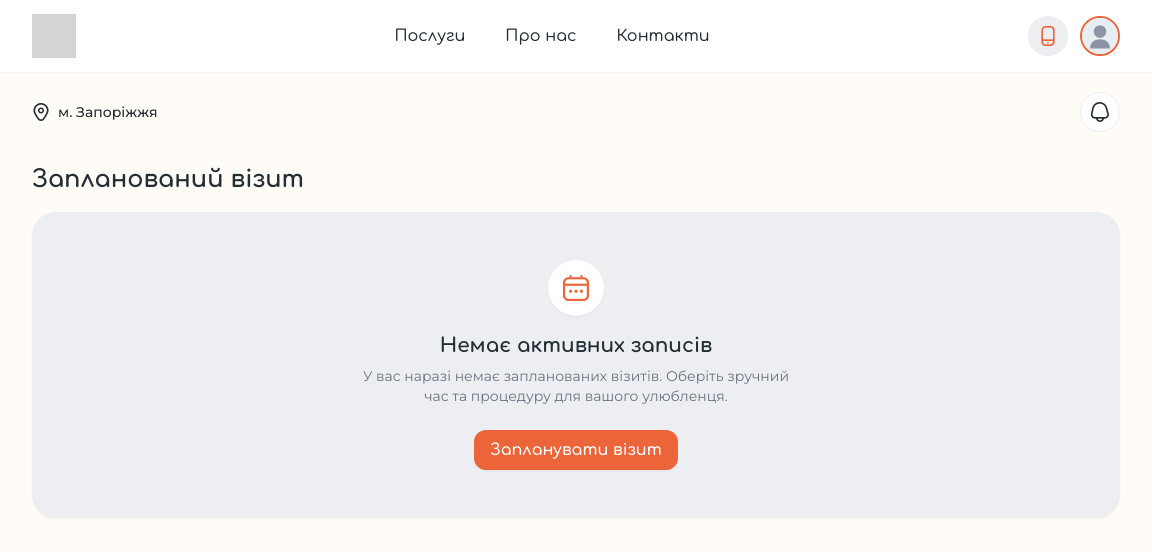
Test: App Root and Auth Gating › Unauthenticated Route Gating & Redirects › navigates from main page to /booking when clicking book visit button in VisitSection
Click the button "Запланувати візит": (576, 450) x1=474 y1=430 x2=678 y2=470
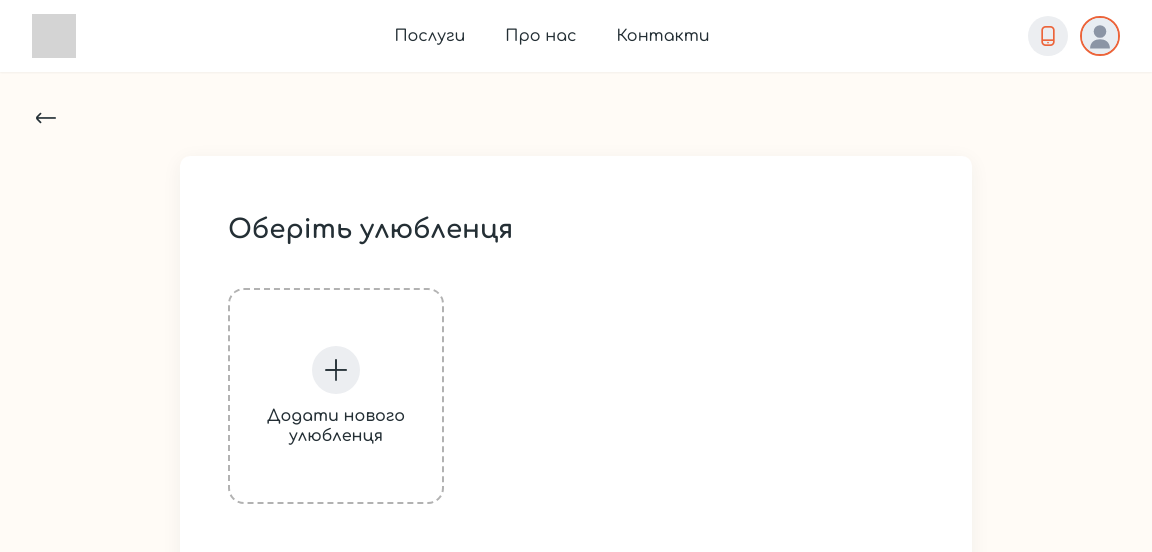
Expected: the heading "Оберіть улюбленця" is shown, x1=228 y1=215 x2=513 y2=244
